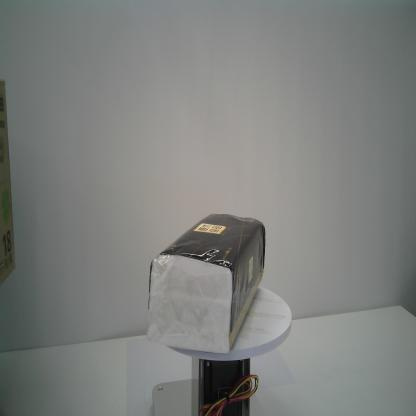Tissue: (145, 212, 266, 356)
